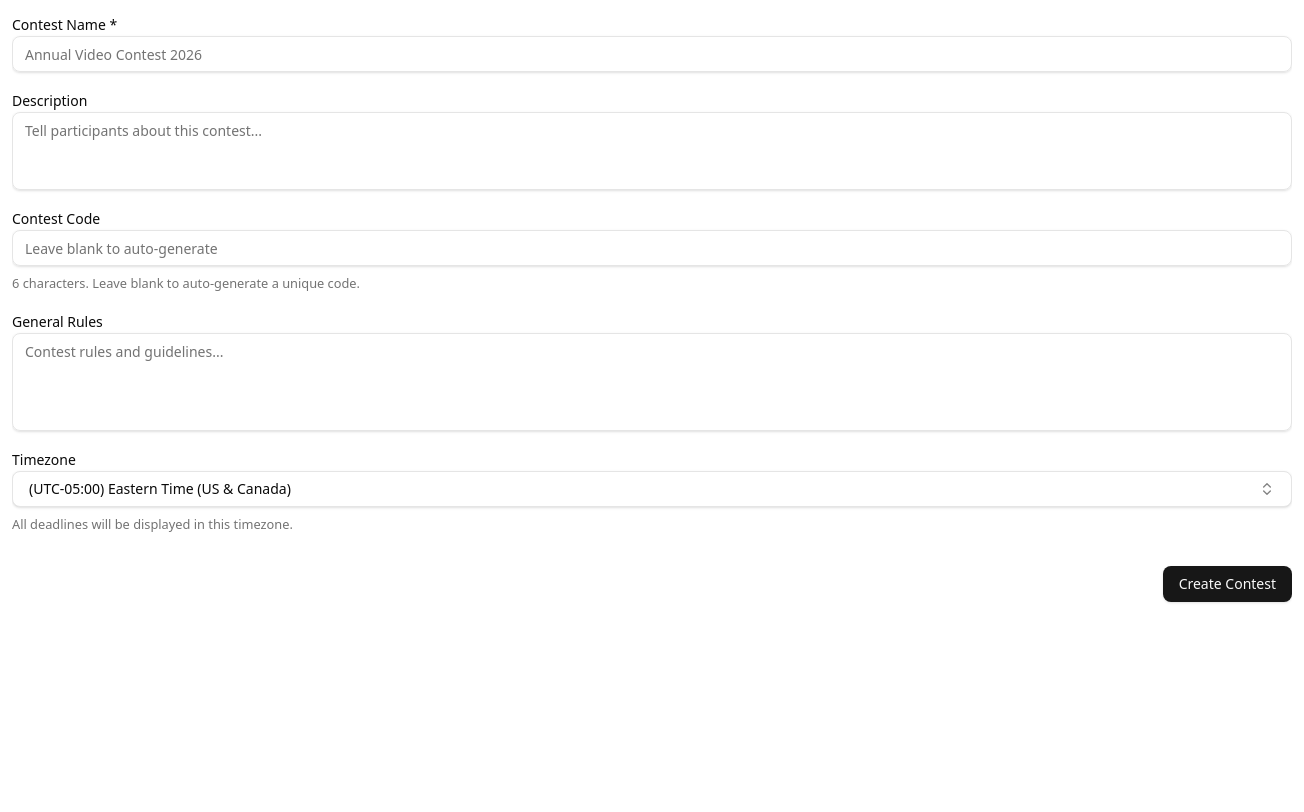
Test case: CreateContestForm › validates contest code length
Type "ABC" into the field labelled "Contest Code" at (652, 248), box [12,230,1292,266]
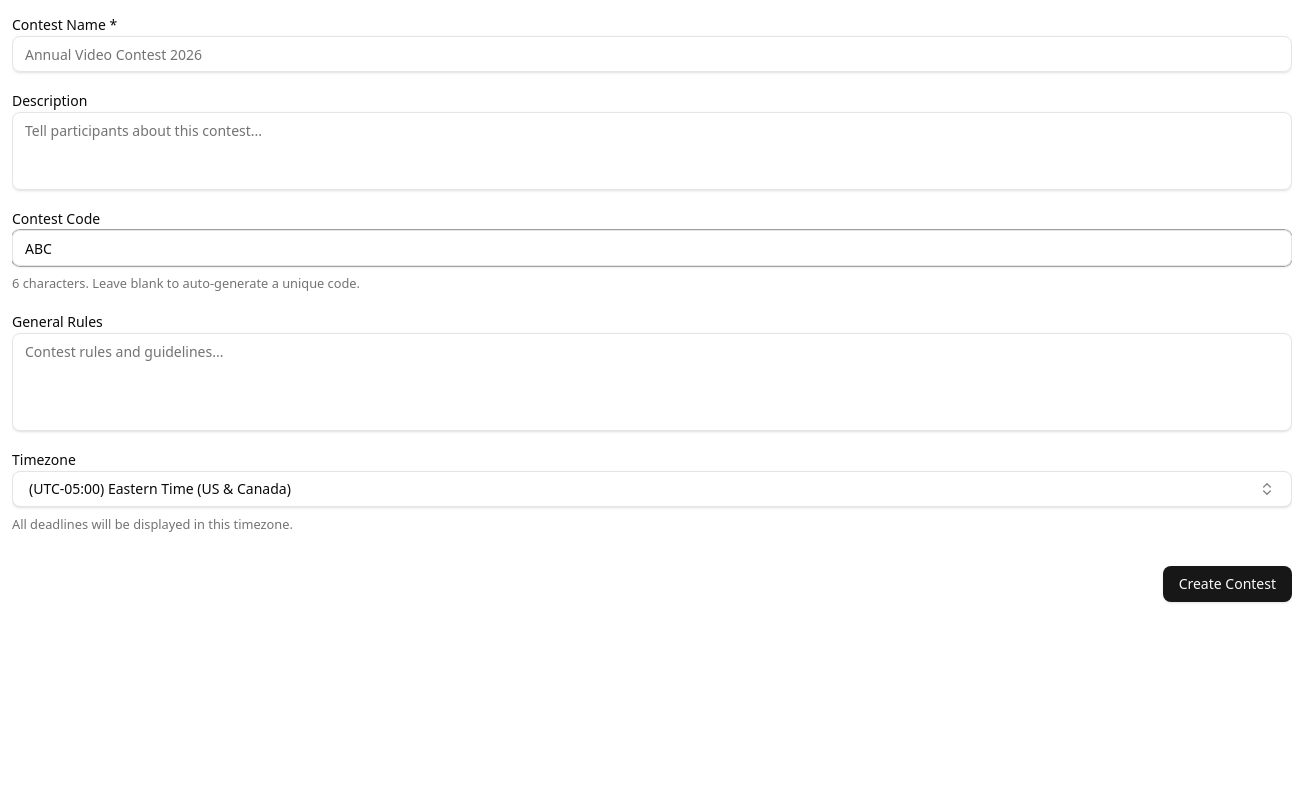
Click the button "Create Contest" at (1227, 584), box [1163,566,1292,602]
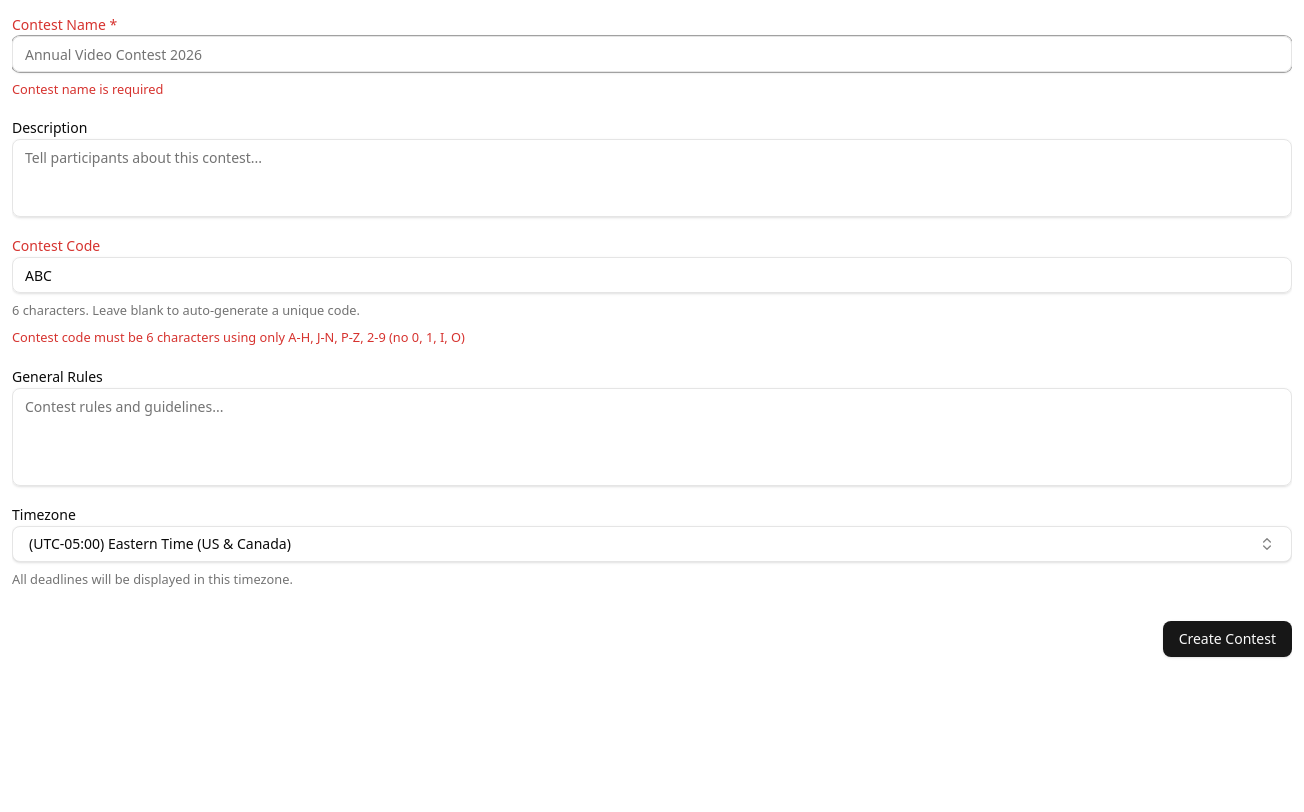
Result: the text "must be 6 characters" is shown at [12,328,465,346]
